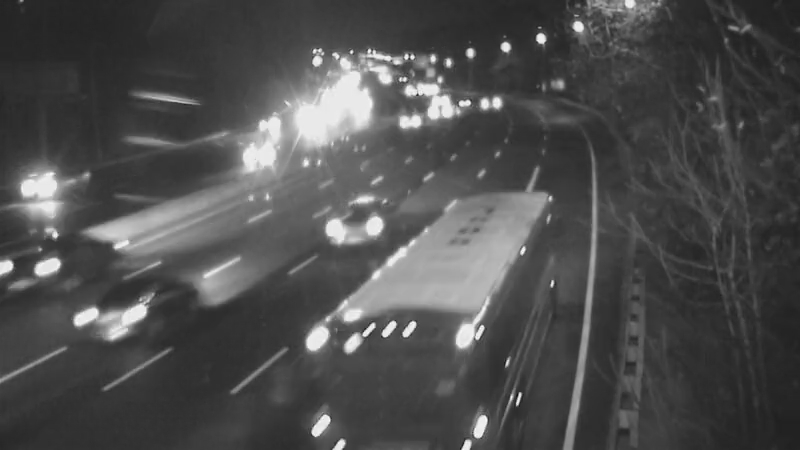vehicle: (53, 256, 163, 366), (407, 246, 517, 356), (323, 180, 403, 260), (219, 118, 299, 198), (1, 151, 80, 231), (1, 234, 78, 314), (474, 73, 524, 123), (422, 84, 472, 134), (388, 91, 438, 141), (244, 97, 294, 147), (280, 95, 330, 145)
